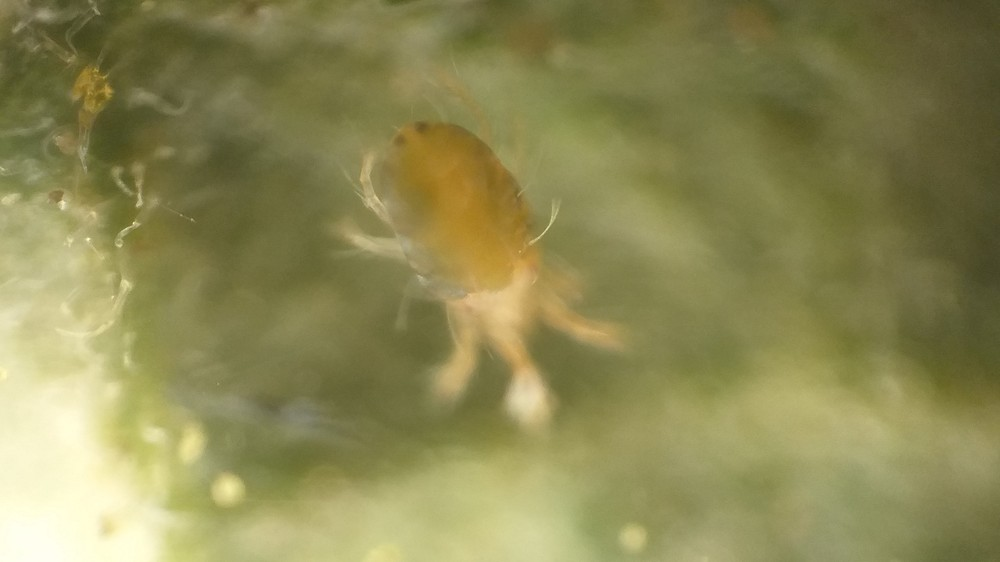Aracnido Rojo: (315, 69, 679, 471)
